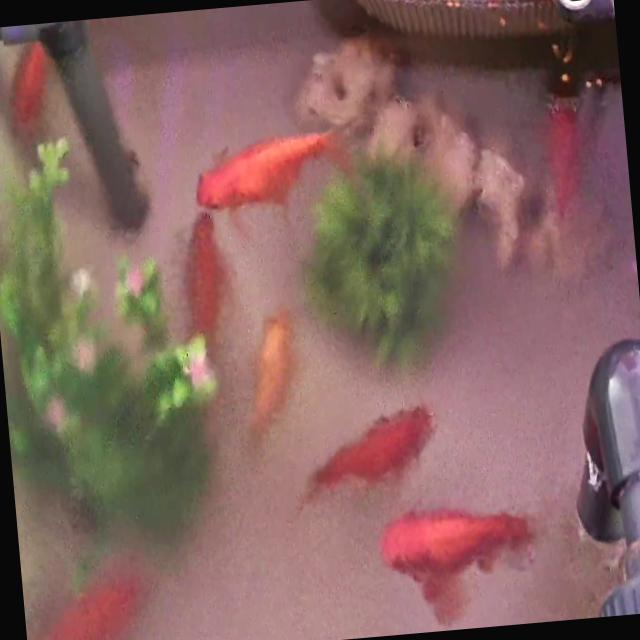fish: (377, 498, 532, 620), (190, 128, 336, 220), (300, 398, 434, 498), (20, 557, 156, 640), (233, 308, 300, 444), (176, 208, 232, 351), (540, 94, 590, 223), (5, 36, 57, 142)
